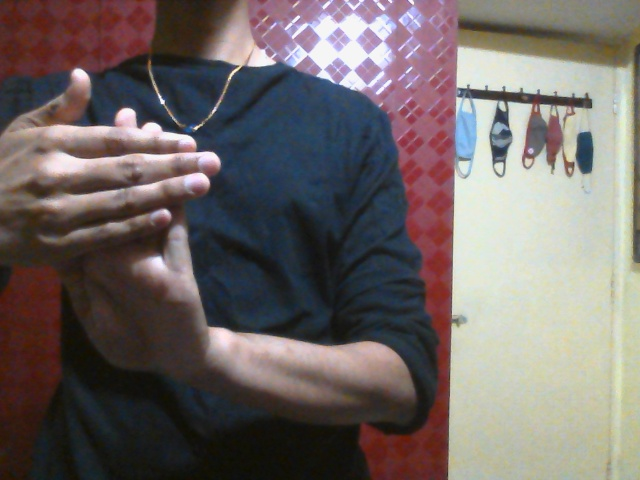H: (7, 65, 221, 375)
